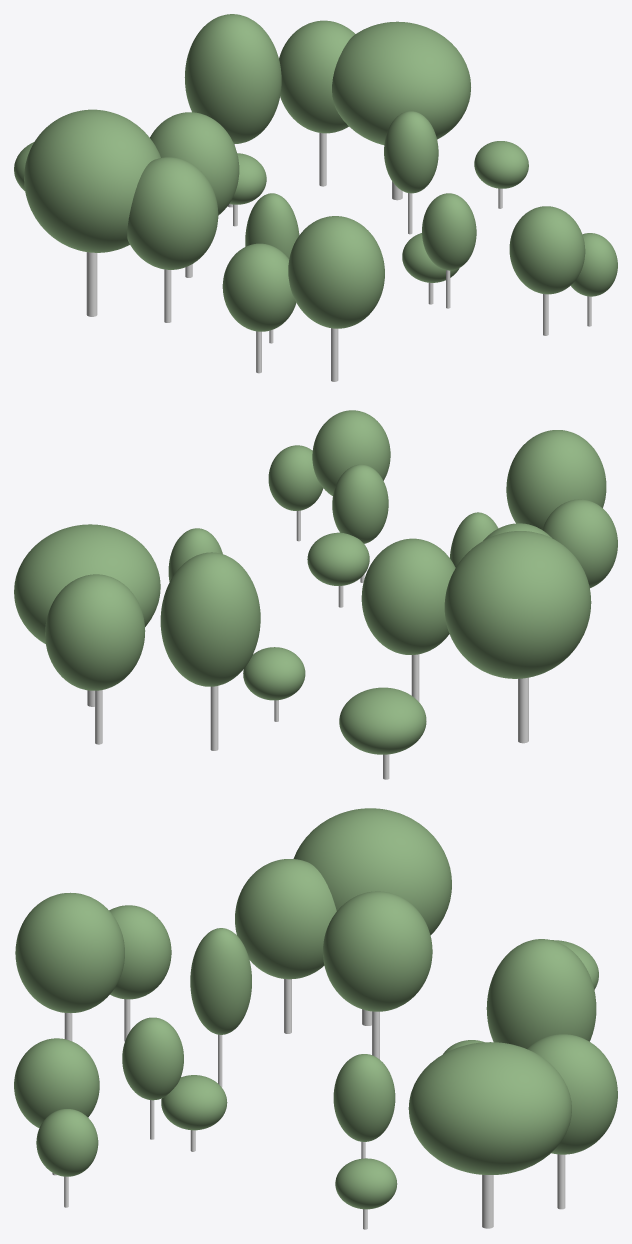
File: trees.fbx
The picture shows the model from 3 angles, top to bottom: view 1: azimuth 30°, elevation 25°; view 2: azimuth 150°, elevation 25°; view 3: azimuth 270°, elevation 25°; orthographic projection. The views are drawn at different scales.
Parts seen in each view (by area): view 1: trees; view 2: trees; view 3: trees.
Part boxes in pixels (left/top/right/bottom): trees: left=14, top=14, right=617, bottom=381; trees: left=14, top=410, right=617, bottom=779; trees: left=14, top=808, right=617, bottom=1229.
Bounding box in the file's own units: 38756 × 38611 × 15965.
